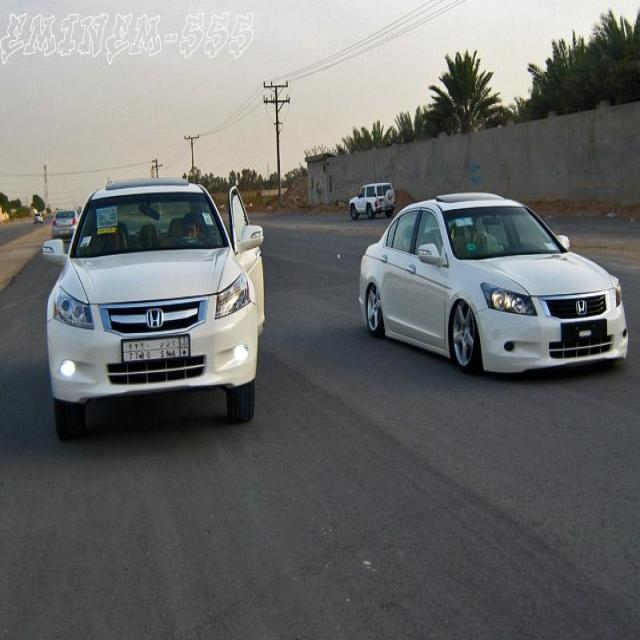license_plate: (119, 337, 191, 362)
